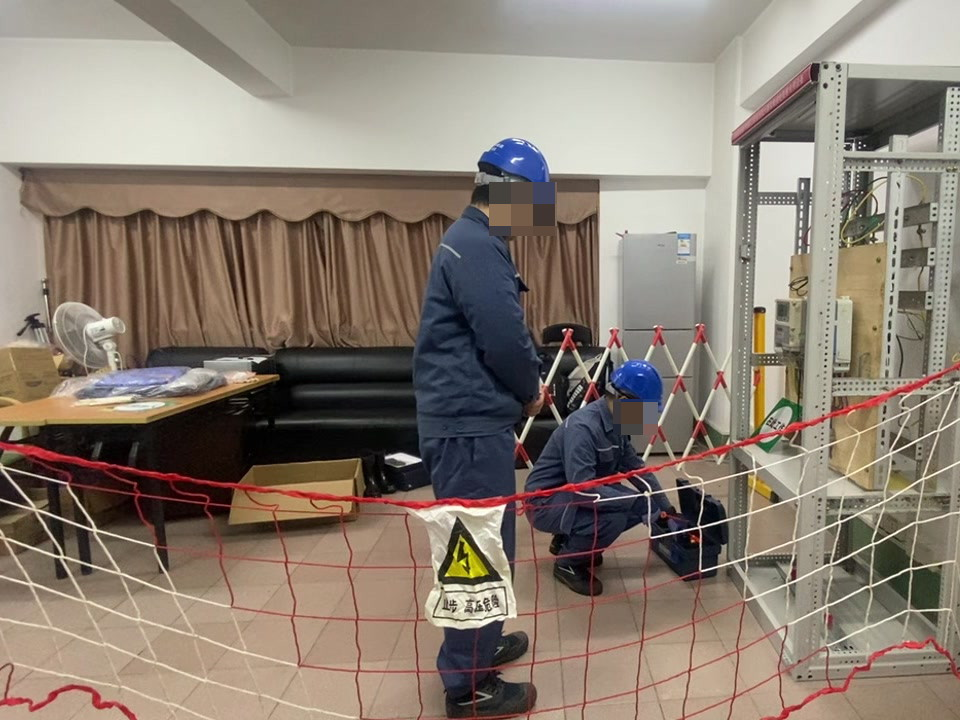downsuit: (420, 434, 520, 687), (563, 477, 649, 564)
glove: (634, 491, 664, 529)
halt: (472, 137, 555, 231), (609, 359, 666, 424)
inear: (501, 175, 531, 233), (615, 390, 632, 423)
person: (407, 134, 541, 720), (527, 360, 669, 598)
upsuit: (409, 206, 541, 430), (522, 396, 674, 527)
worksign: (749, 394, 805, 455)
